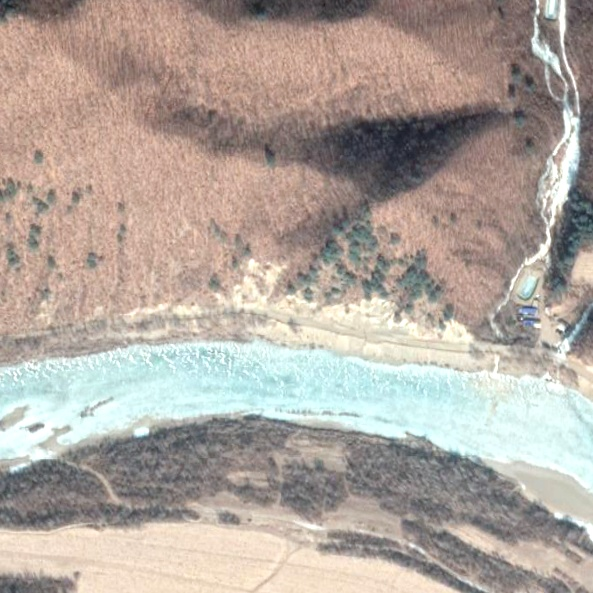slope: (133, 259, 480, 339)
